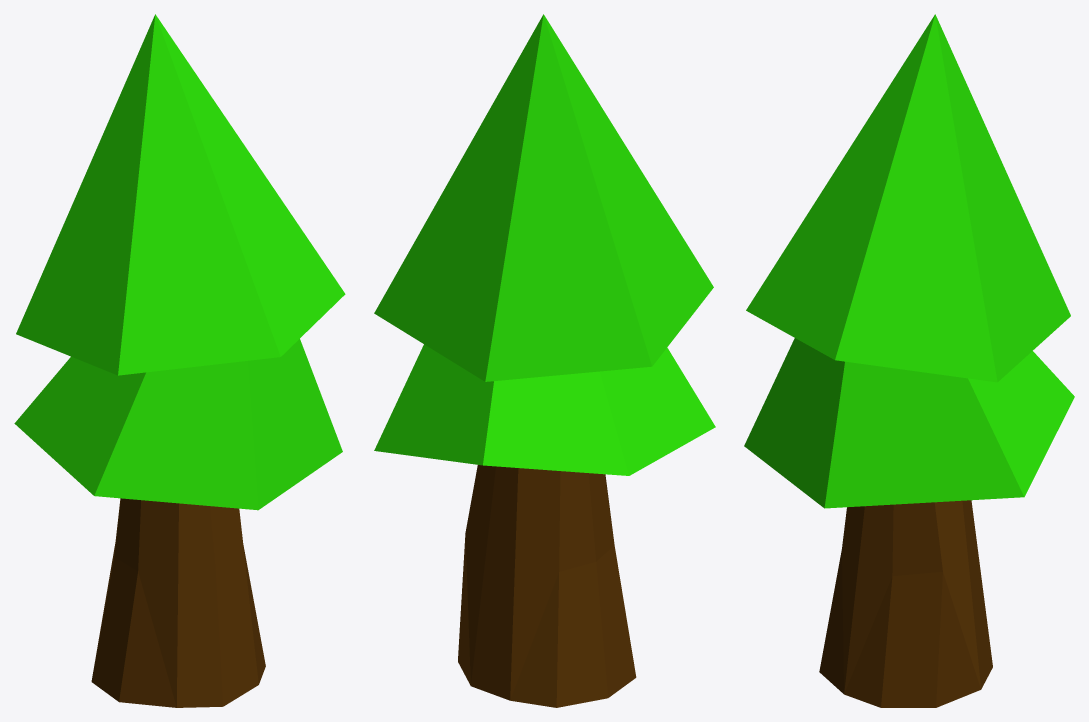
The model's file is Pine tree#1.fbx.
The picture shows the model from 3 angles, left to right: view 1: azimuth 30°, elevation 25°; view 2: azimuth 150°, elevation 25°; view 3: azimuth 270°, elevation 25°; orthographic projection. The views are drawn at different scales.
Parts seen in each view (by area): view 1: Pine tree#1; view 2: Pine tree#1; view 3: Pine tree#1.
Part boxes in pixels (x1,y1,x2,y2): Pine tree#1: (14,14,345,707); Pine tree#1: (374,14,715,707); Pine tree#1: (744,14,1074,707).
Bounding box in the file's own units: 258 × 611 × 281.
